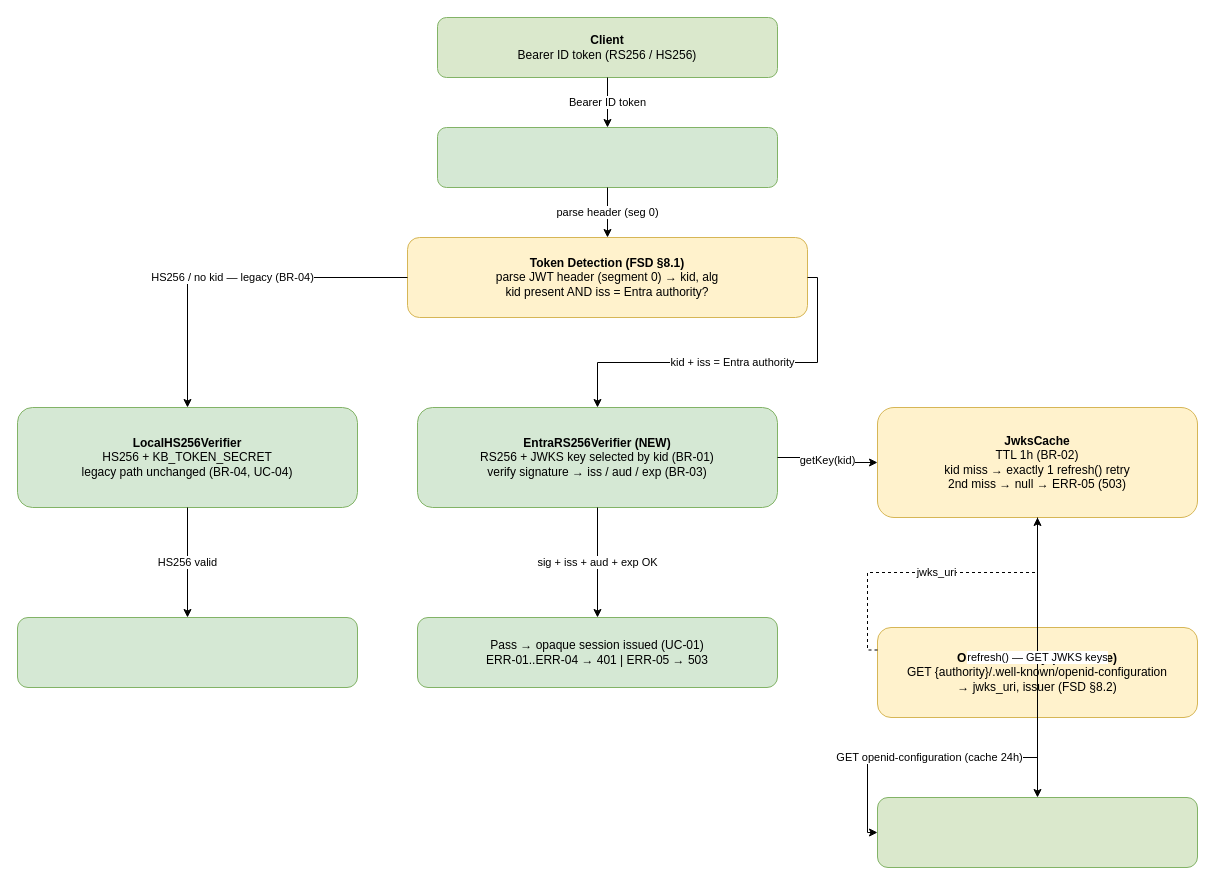
The diagram is 1215 pixels wide and 885 high, and some of its shapes have lost their labels. The centre of each missing label's shape, as x and y in pixels:
jwt-auth middleware (Hono) createJwtAuth() — strategy select (SA4E-266): (607,157)
Microsoft Entra ID JWKS endpoint + issuer (external): (1037,832)
Opaque session — legacy behavior unchanged (UC-04, BR-04): (187,652)
